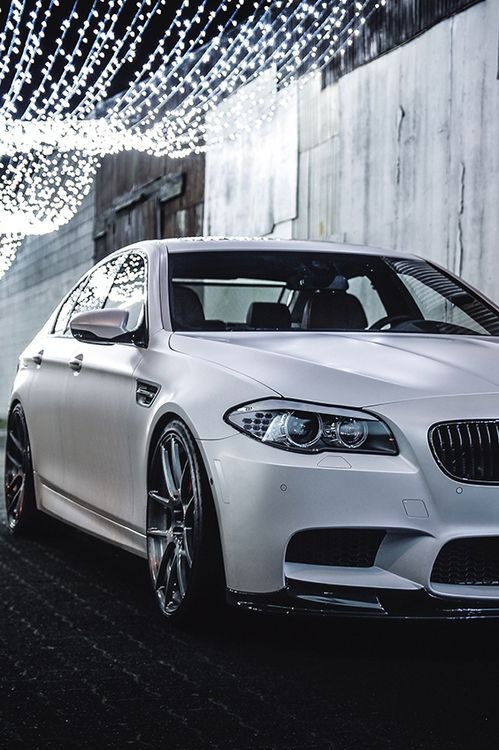car: (18, 219, 499, 663)
